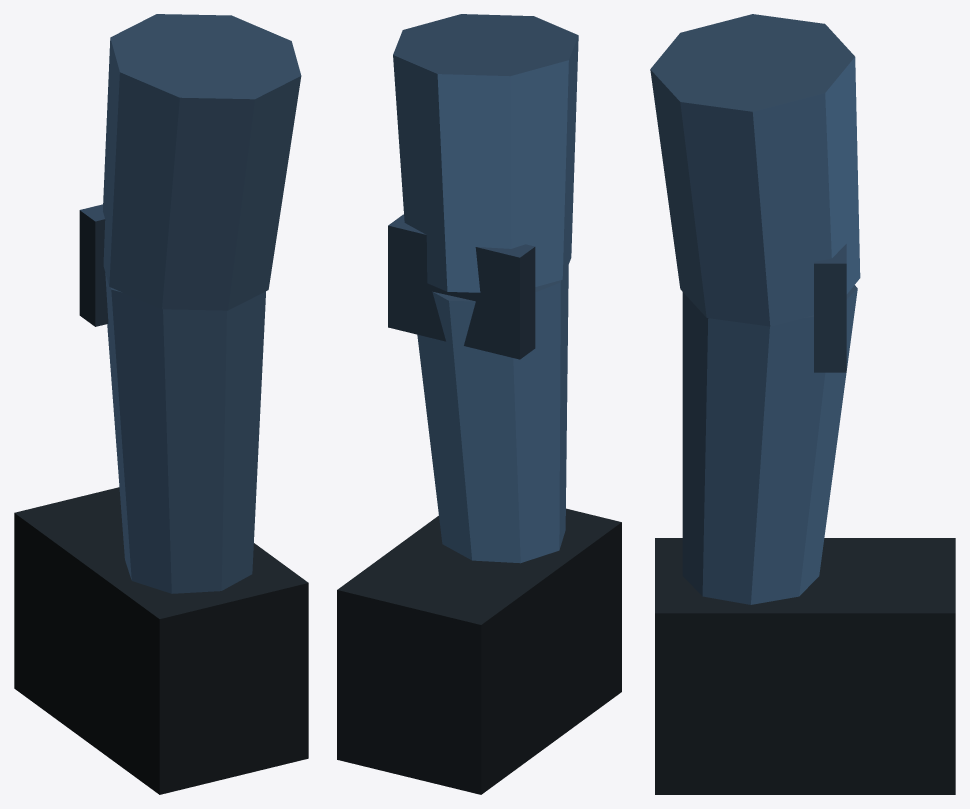
The model's file is counter_terrorist_left_leg.obj.
3 renders of one model, left to right at view 1: azimuth 30°, elevation 25°; view 2: azimuth 150°, elevation 25°; view 3: azimuth 270°, elevation 25°, orthographic. The views are drawn at different scales.
Parts seen in each view (by area): view 1: counter_terrorist_left_leg; view 2: counter_terrorist_left_leg; view 3: counter_terrorist_left_leg.
Boxes of the visible parts, bbox=[...] form: counter_terrorist_left_leg: bbox=[14, 14, 308, 794]; counter_terrorist_left_leg: bbox=[337, 14, 621, 794]; counter_terrorist_left_leg: bbox=[650, 14, 955, 794].
Bounding box in the file's own units: 8.54 × 31.38 × 12.19.
1 material, 1 textured.
